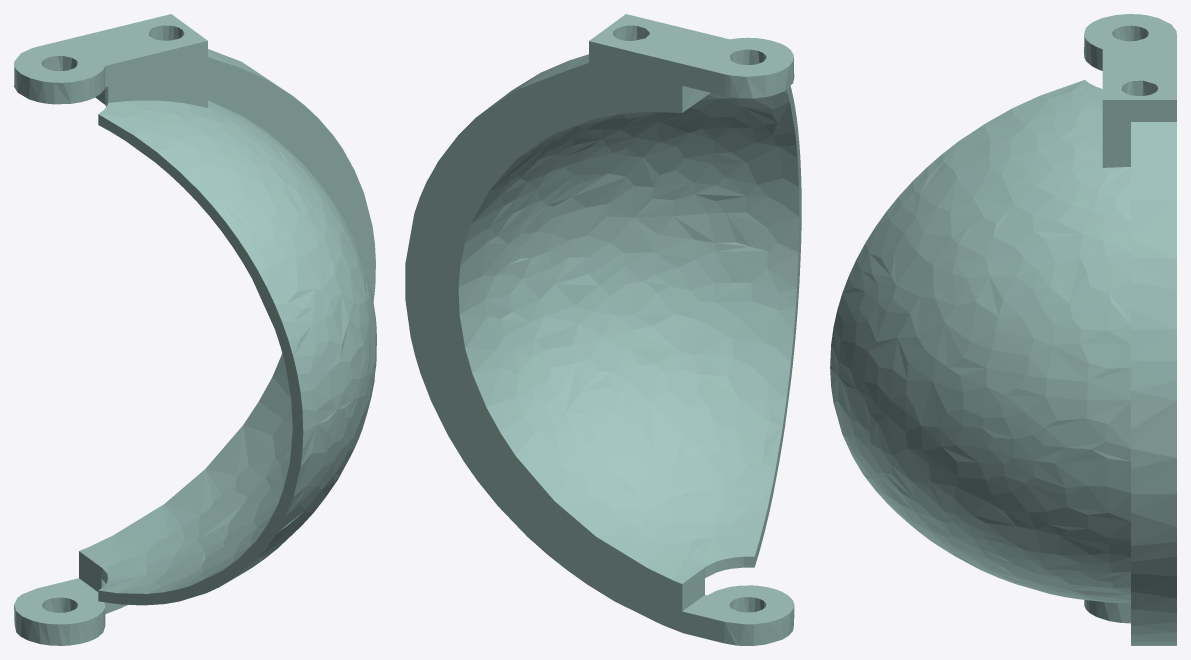
The model's file is i02_head_left_bottom_eyelid_visual.obj.full.glb.
3 views of the same model, side by side, from view 1: azimuth 30°, elevation 25°; view 2: azimuth 150°, elevation 25°; view 3: azimuth 270°, elevation 25° (orthographic).
Bounding box in the file's own units: 0.2114 × 0.3195 × 0.1761.
